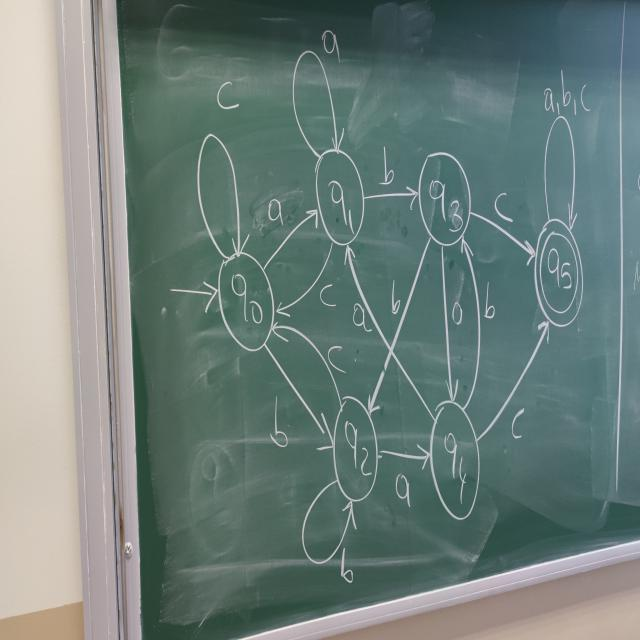image: (156, 21, 608, 582)
